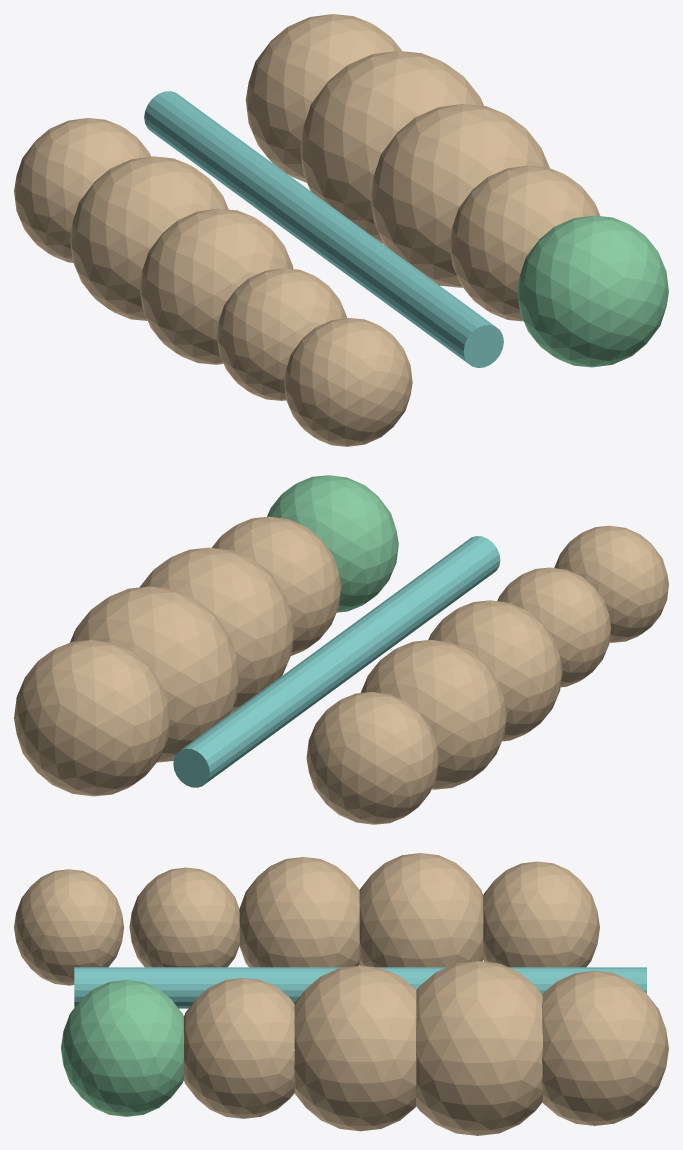
Rendered from gravid.glb.
3 renders of one model, top to bottom at view 1: azimuth 30°, elevation 25°; view 2: azimuth 150°, elevation 25°; view 3: azimuth 270°, elevation 25°, orthographic. The views are drawn at different scales.
Visible parts, largest first — view 1: feedstock_spine_0, cradle_4_9, cradle_2_5, cradle_1_3, cradle_alt_2_6, cradle_alt_1_4, cradle_alt_4_10, cradle_3_7, cradle_0_1, cradle_alt_3_8, cradle_alt_0_2; view 2: cradle_0_1, feedstock_spine_0, cradle_1_3, cradle_alt_0_2, cradle_alt_1_4, cradle_2_5, cradle_alt_2_6, cradle_4_9, cradle_3_7, cradle_alt_4_10, cradle_alt_3_8; view 3: cradle_1_3, cradle_2_5, cradle_0_1, cradle_4_9, cradle_3_7, cradle_alt_1_4, cradle_alt_2_6, cradle_alt_0_2, cradle_alt_4_10, cradle_alt_3_8, feedstock_spine_0.
Boxes of the visible parts, x1,y1,x2,y2 form: feedstock_spine_0: (144,91,503,367); cradle_4_9: (517,215,668,367); cradle_2_5: (370,104,549,287); cradle_1_3: (300,51,483,243); cradle_alt_2_6: (139,208,293,364); cradle_alt_1_4: (70,156,228,320); cradle_alt_4_10: (284,318,412,446); cradle_3_7: (449,165,600,321); cradle_0_1: (245,14,401,182); cradle_alt_3_8: (216,268,346,400); cradle_alt_0_2: (14,118,150,262); cradle_0_1: (14,640,170,796); feedstock_spine_0: (173,536,500,787); cradle_1_3: (70,586,239,762); cradle_alt_0_2: (306,692,438,824); cradle_alt_1_4: (360,640,506,789); cradle_2_5: (139,547,294,712); cradle_alt_2_6: (428,600,562,741); cradle_4_9: (267,475,398,612); cradle_3_7: (212,516,341,655); cradle_alt_4_10: (554,525,668,642); cradle_alt_3_8: (497,567,611,687); cradle_1_3: (416,961,542,1135); cradle_2_5: (294,965,416,1131); cradle_0_1: (542,971,668,1125); cradle_4_9: (61,980,183,1116); cradle_3_7: (184,978,294,1118); cradle_alt_1_4: (359,853,483,967); cradle_alt_2_6: (239,857,359,967); cradle_alt_0_2: (483,861,599,967); cradle_alt_4_10: (14,869,124,985); cradle_alt_3_8: (129,867,239,967); feedstock_spine_0: (74,967,646,1008).
Size of the model in its own units: 1.73 by 0.6771 by 2.52.
